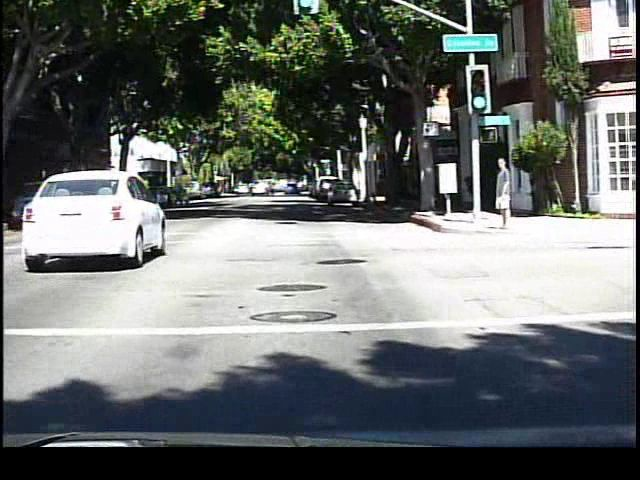person: (490, 154, 516, 232)
